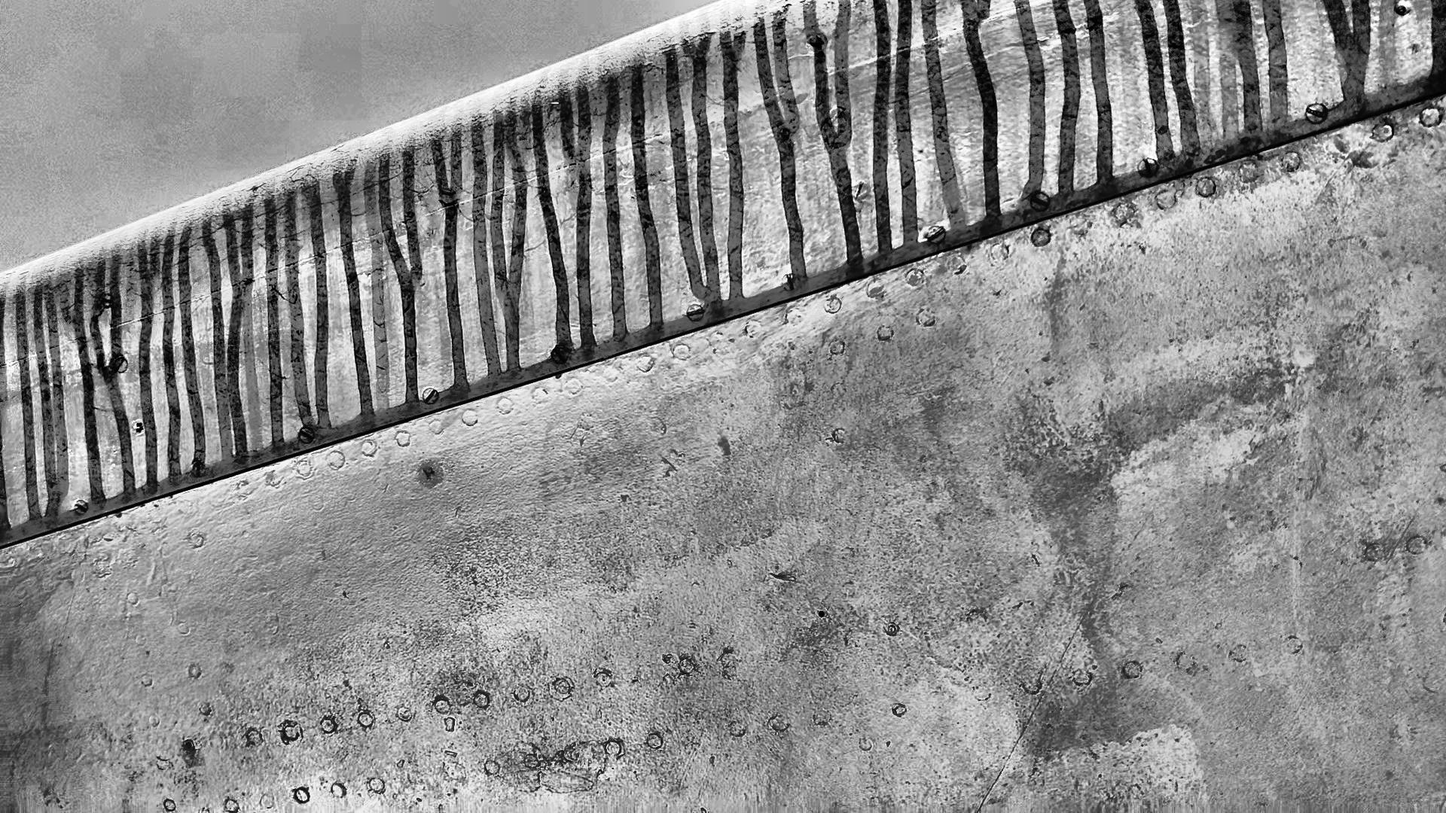scratch: (975, 591, 1103, 811), (906, 60, 968, 100)
